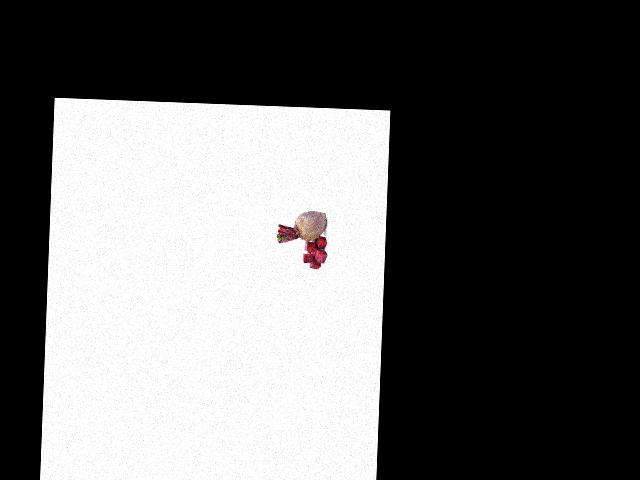beet: (277, 210, 327, 245)
